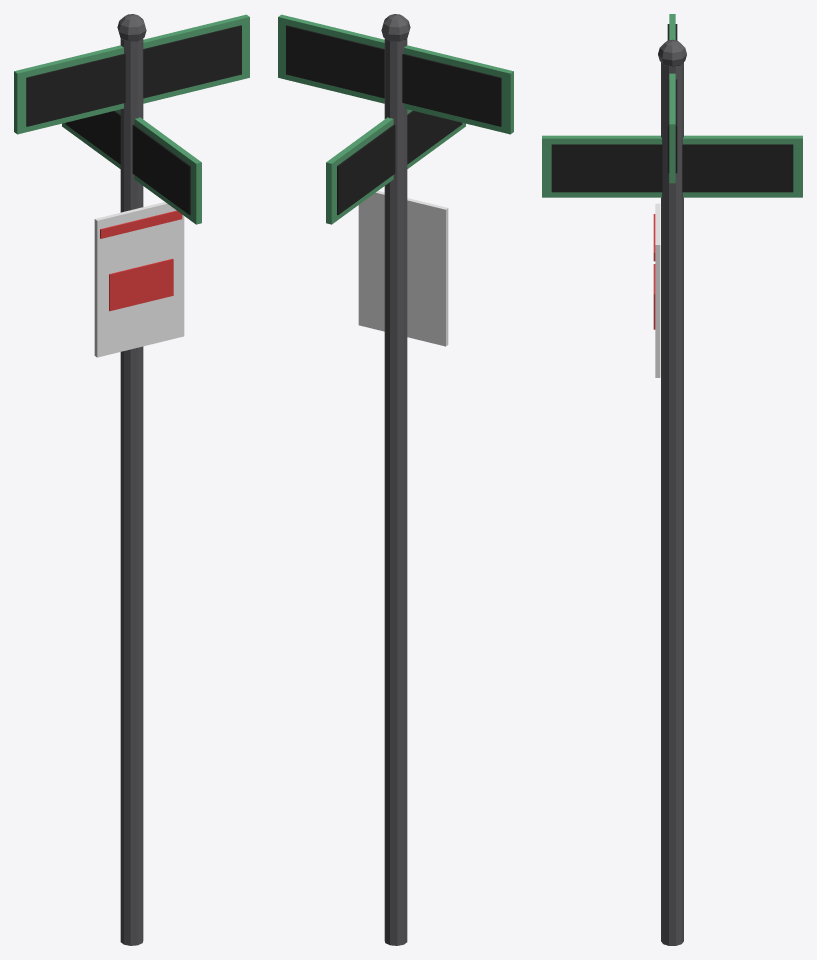
The model's file is street_sign_pole.glb.
3 renders of one model, left to right at view 1: azimuth 30°, elevation 25°; view 2: azimuth 150°, elevation 25°; view 3: azimuth 270°, elevation 25°, orthographic. The views are drawn at different scales.
Visible parts, largest first — view 1: street_sign_pole, sign_a, sign_b; view 2: street_sign_pole, sign_a, sign_b; view 3: street_sign_pole, sign_b, sign_a.
Boxes of the visible parts, x1=… form: street_sign_pole: x1=14, y1=14, x2=249, y2=945; sign_a: x1=26, y1=25, x2=241, y2=126; sign_b: x1=65, y1=111, x2=190, y2=214; street_sign_pole: x1=278, y1=14, x2=513, y2=945; sign_a: x1=286, y1=25, x2=501, y2=126; sign_b: x1=337, y1=111, x2=462, y2=214; street_sign_pole: x1=542, y1=14, x2=802, y2=945; sign_b: x1=551, y1=144, x2=793, y2=192; sign_a: x1=667, y1=24, x2=677, y2=173.
Bounding box in the file's own units: 0.8 × 3.05 × 0.8.
